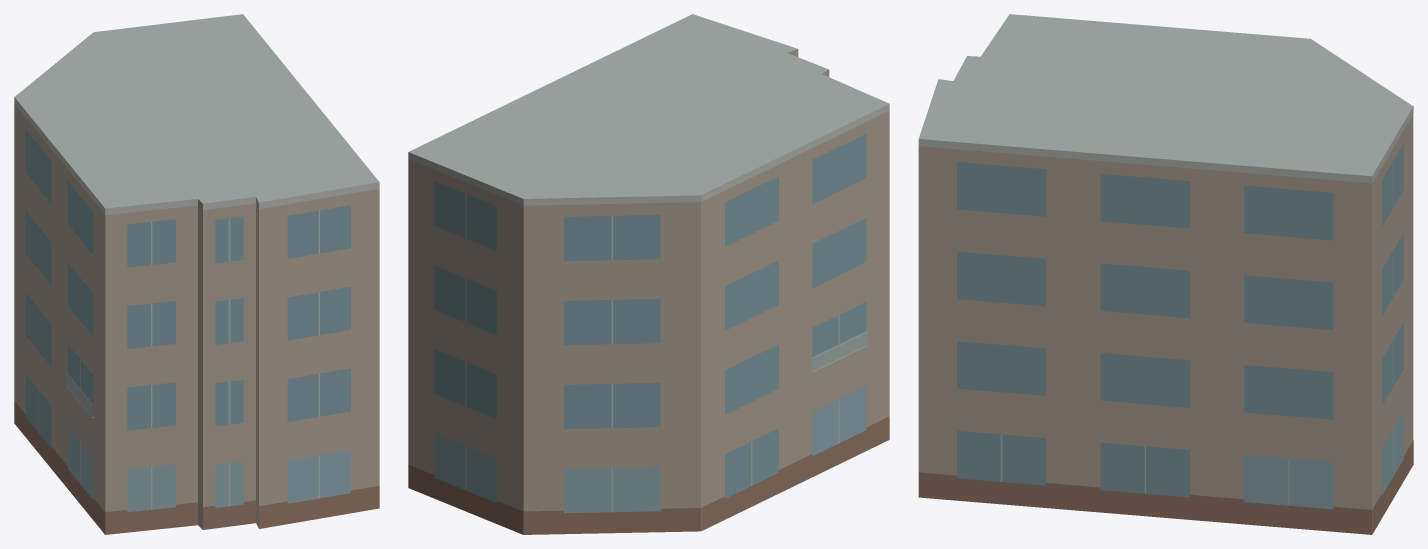
File: survey-upis-32779298.glb
The picture shows the model from 3 angles, left to right: view 1: azimuth 30°, elevation 25°; view 2: azimuth 150°, elevation 25°; view 3: azimuth 270°, elevation 25°; orthographic projection. The views are drawn at different scales.
Parts seen in each view (by area): view 1: survey-upis-32779298.tmp; view 2: survey-upis-32779298.tmp; view 3: survey-upis-32779298.tmp.
Part boxes in pixels (bbox=[...]): survey-upis-32779298.tmp: bbox=[14, 14, 379, 534]; survey-upis-32779298.tmp: bbox=[408, 14, 889, 534]; survey-upis-32779298.tmp: bbox=[918, 14, 1413, 534].
Bounding box in the file's own units: 11.85 × 12.2 × 15.27.
